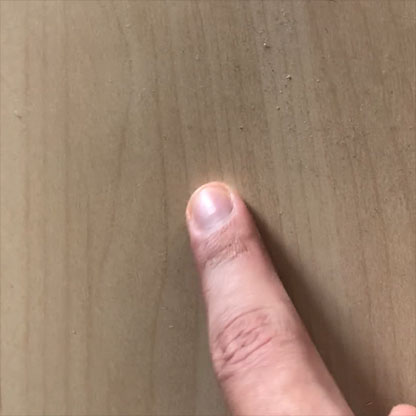fingertip: (179, 169, 256, 252)
